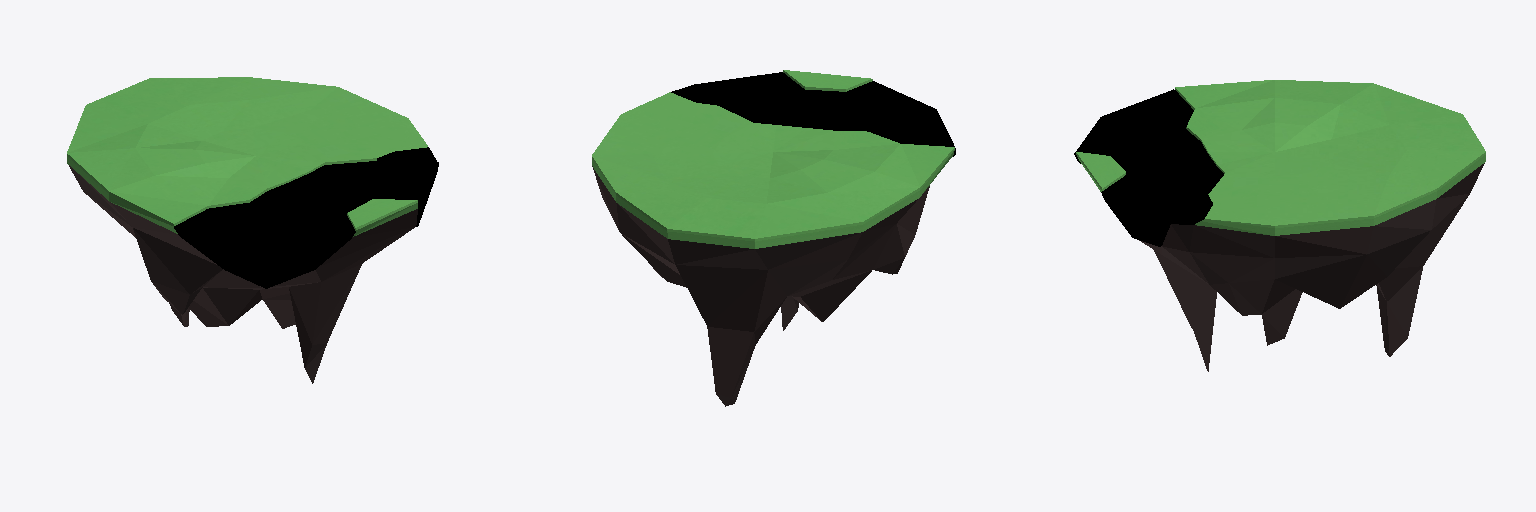
3 views of the same model, side by side, from view 1: azimuth 30°, elevation 25°; view 2: azimuth 150°, elevation 25°; view 3: azimuth 270°, elevation 25° (orthographic).
Size of the model in its own units: 1.82 by 1.25 by 2.17.
4 materials, 2 textured.